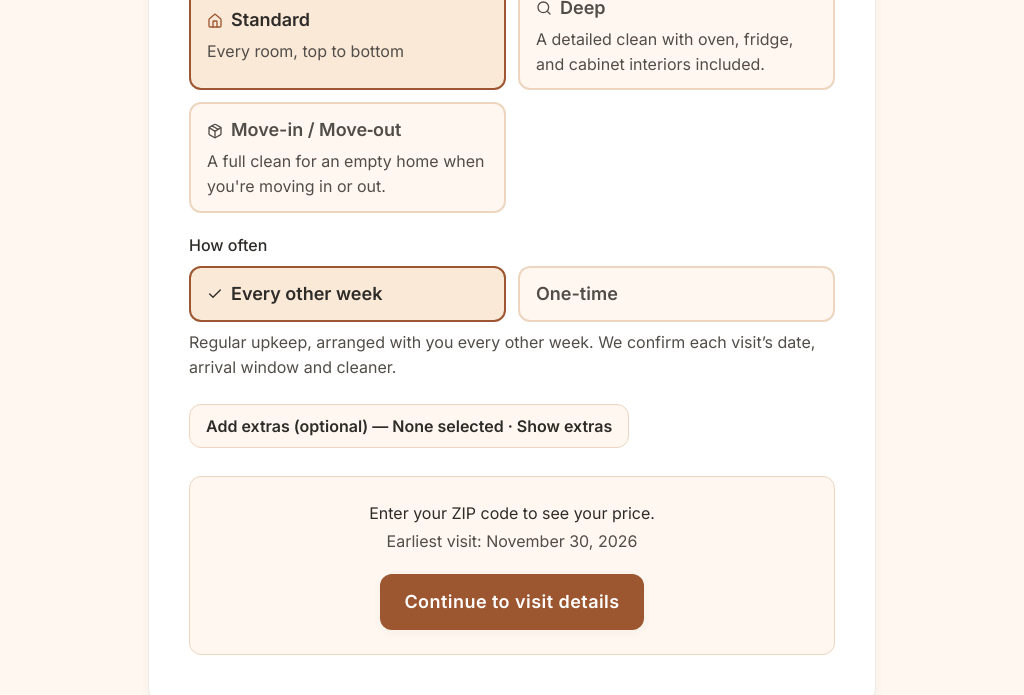
Test: quote steps › add extras are grouped, priced, and none are pre-selected
(page scrolled)
Click the button "Add extras (optional) — None selected · Show extras": x=409, y=426 [189,404,629,448]
(page scrolled)
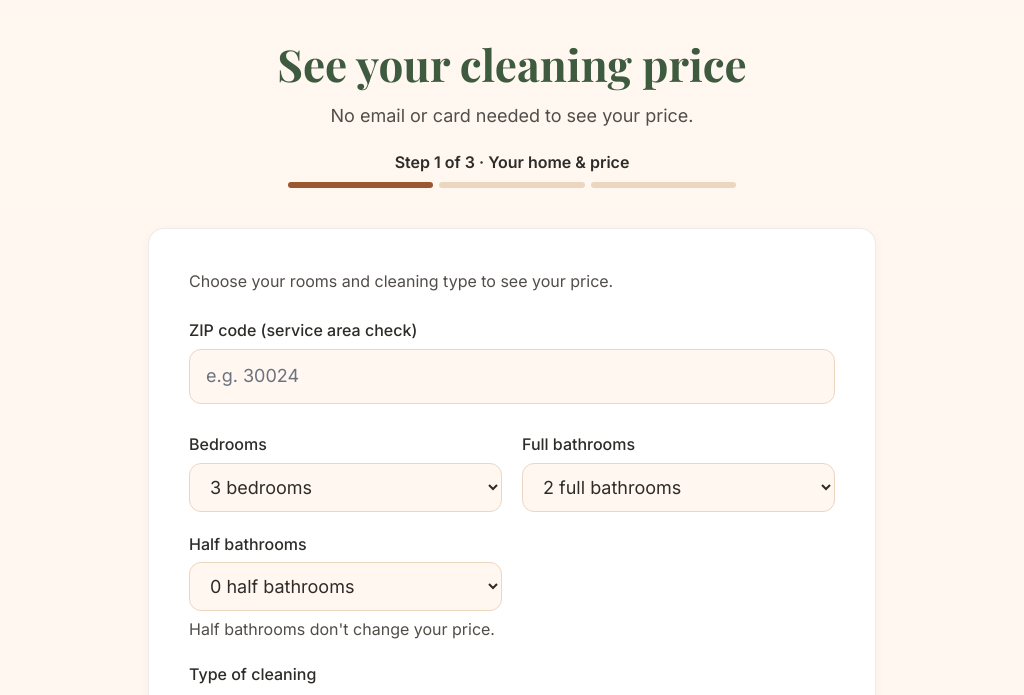
In the field labelled "ZIP code (service area check)": x=512, y=376 [189,349,835,404], type "30024"
(page scrolled)
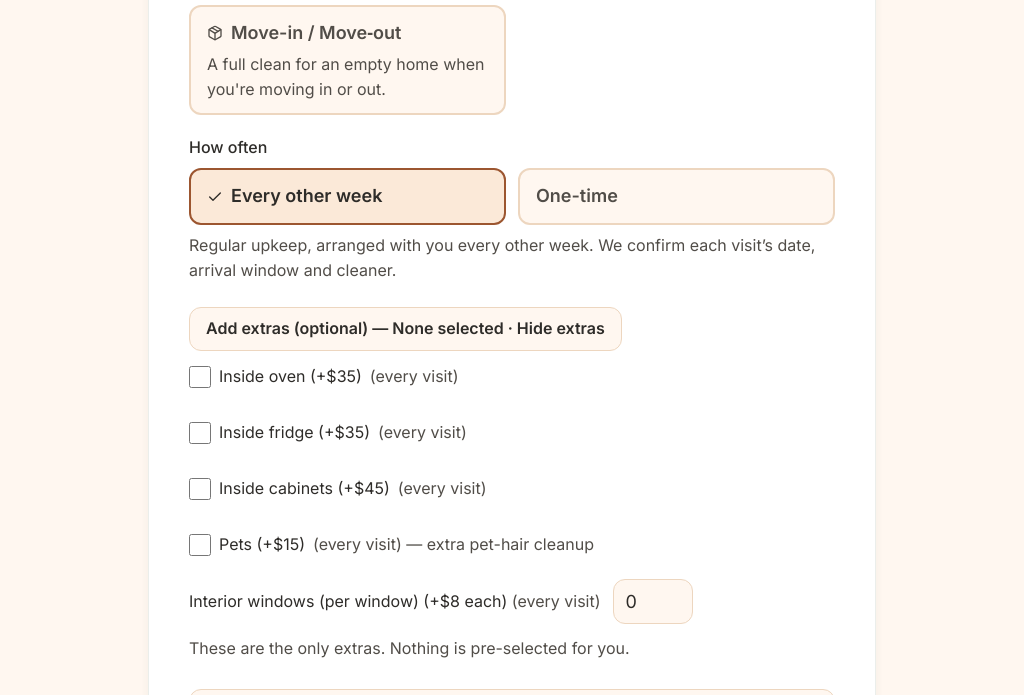
Click the checkbox labelled "Inside oven (+$35) (every visit)": x=200, y=376 [189,366,211,388]
(page scrolled)
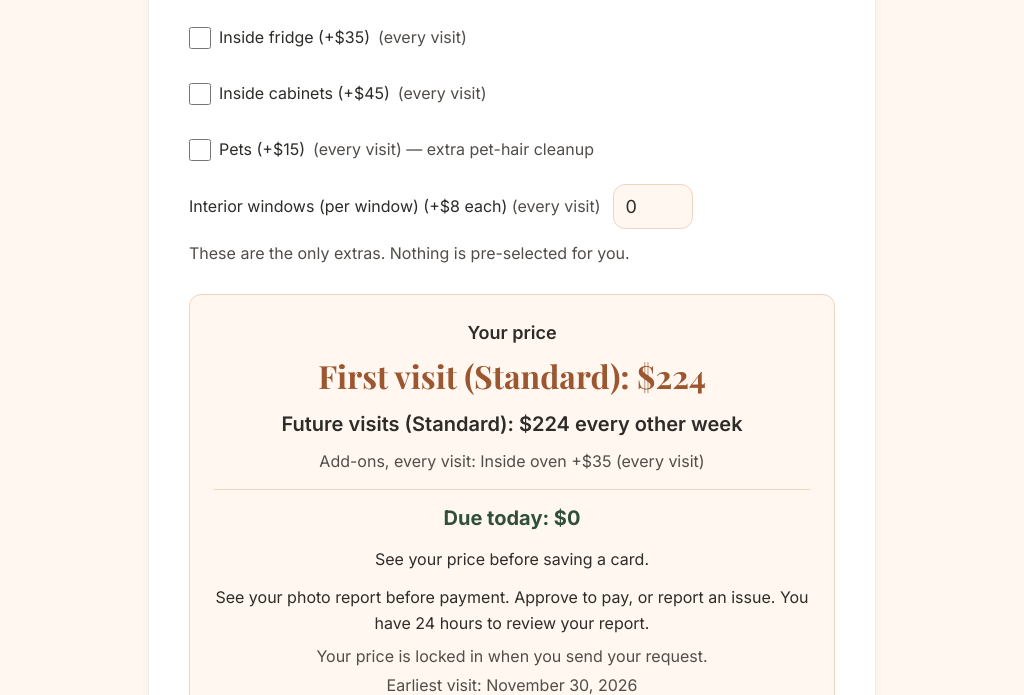
Check: the text "First visit (Standard): $224" is shown, box [318,356,706,396]
